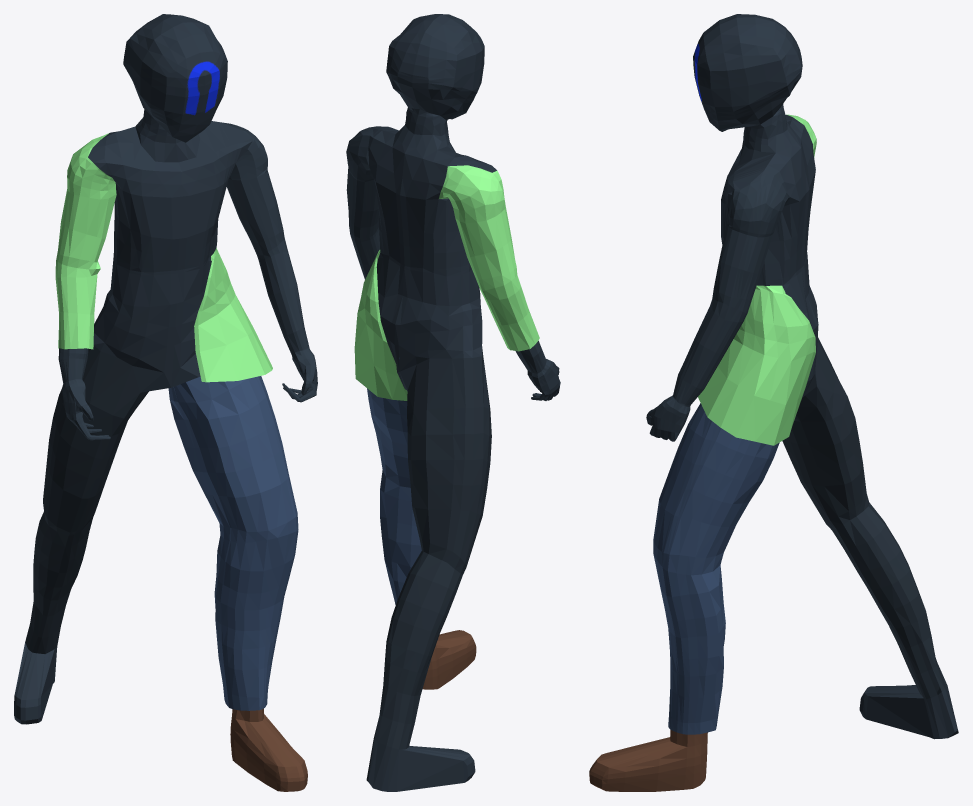
File: Mar_Recover_000027.obj
3 renders of one model, left to right at view 1: azimuth 30°, elevation 25°; view 2: azimuth 150°, elevation 25°; view 3: azimuth 270°, elevation 25°, orthographic. The views are drawn at different scales.
Parts seen in each view (by area): view 1: Cube.000_Cube.001; view 2: Cube.000_Cube.001; view 3: Cube.000_Cube.001.
Boxes of the visible parts, x1,y1,x2,y2 form: Cube.000_Cube.001: [14, 14, 317, 791]; Cube.000_Cube.001: [346, 14, 560, 791]; Cube.000_Cube.001: [589, 14, 958, 791].
Bounding box in the file's own units: 1.2 × 3.82 × 1.72.
